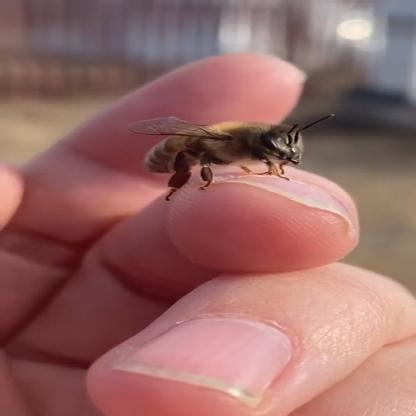bee: (116, 91, 372, 201)
